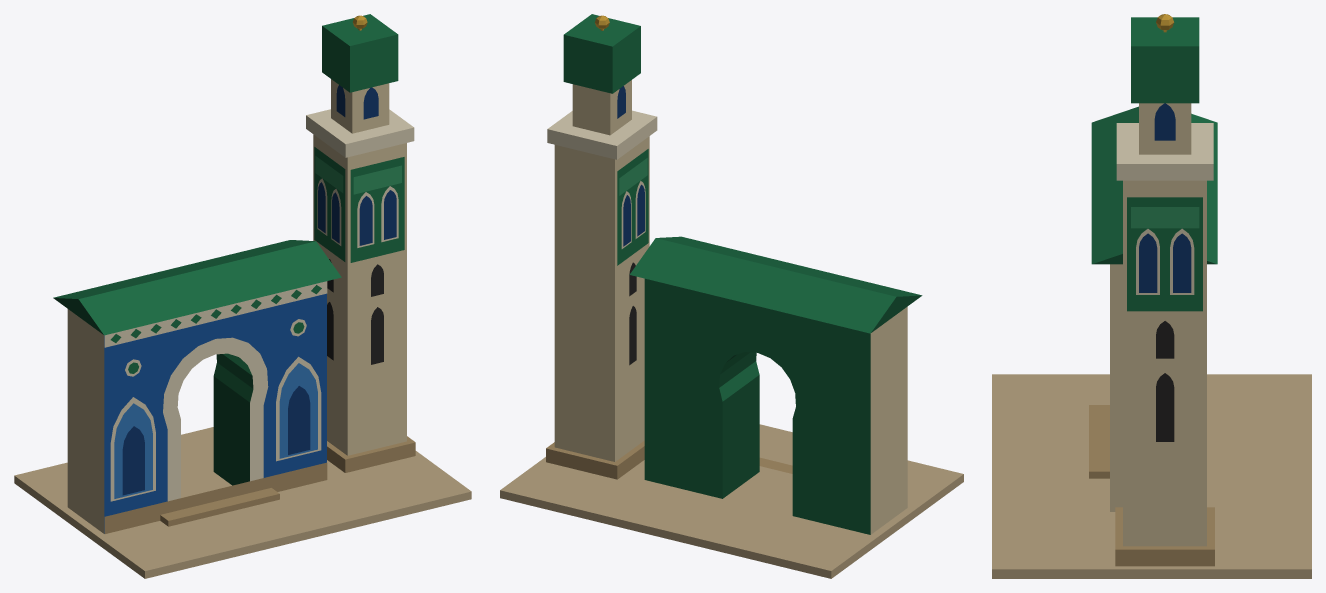
The model's file is riad.glb.
3 renders of one model, left to right at view 1: azimuth 30°, elevation 25°; view 2: azimuth 150°, elevation 25°; view 3: azimuth 270°, elevation 25°, orthographic. The views are drawn at different scales.
Visible parts, largest first — view 1: riad; view 2: riad; view 3: riad.
Boxes of the visible parts, bbox=[...] form: riad: bbox=[14, 14, 471, 578]; riad: bbox=[500, 14, 963, 578]; riad: bbox=[992, 14, 1311, 578].
Size of the model in its own units: 1.76 by 2.28 by 1.22.
